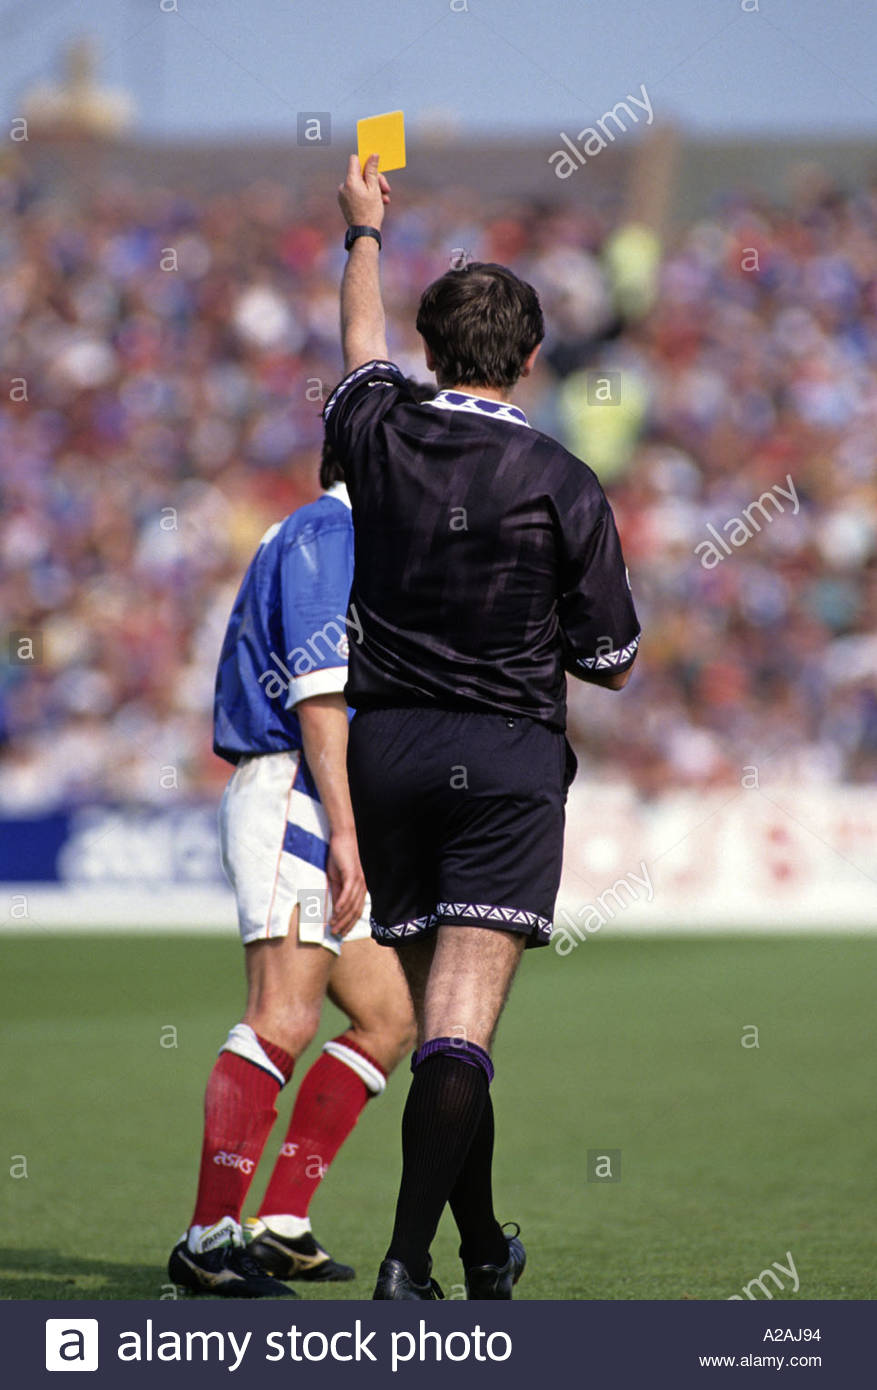yellow_card: (329, 82, 413, 237)
